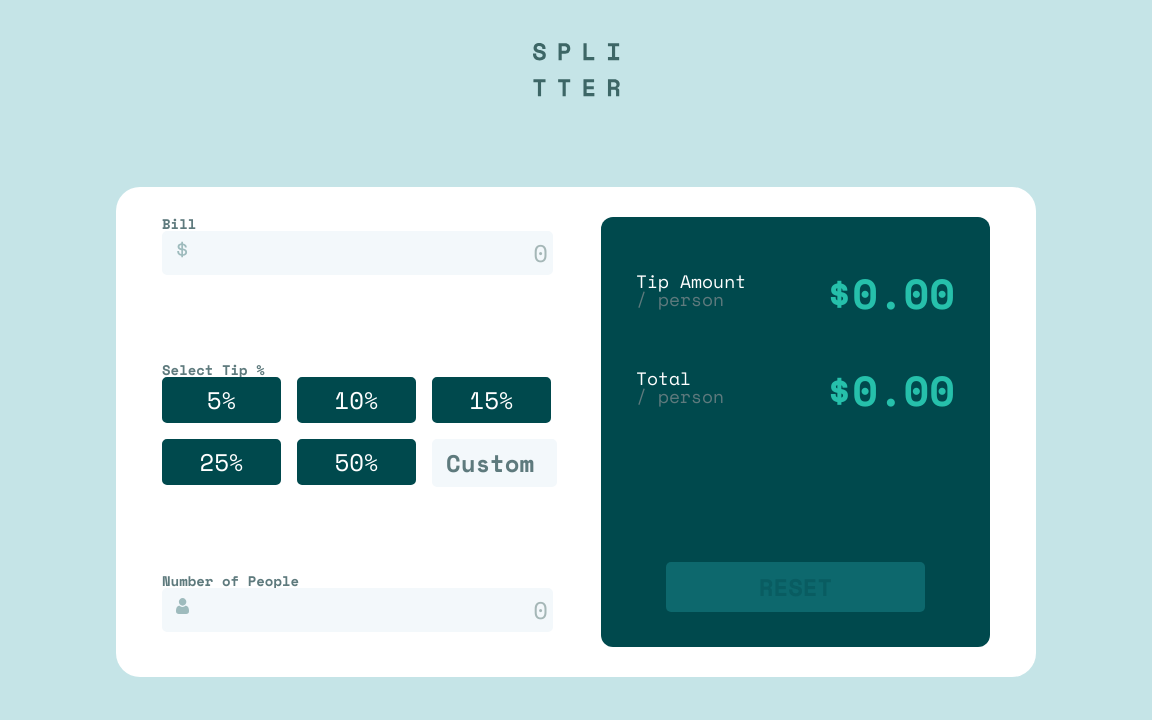
expect when add 2.5 on number of people, return 25
Type "2.5" into the number field with test id "inputPeople" at point(358, 610), box [162,588,553,632]
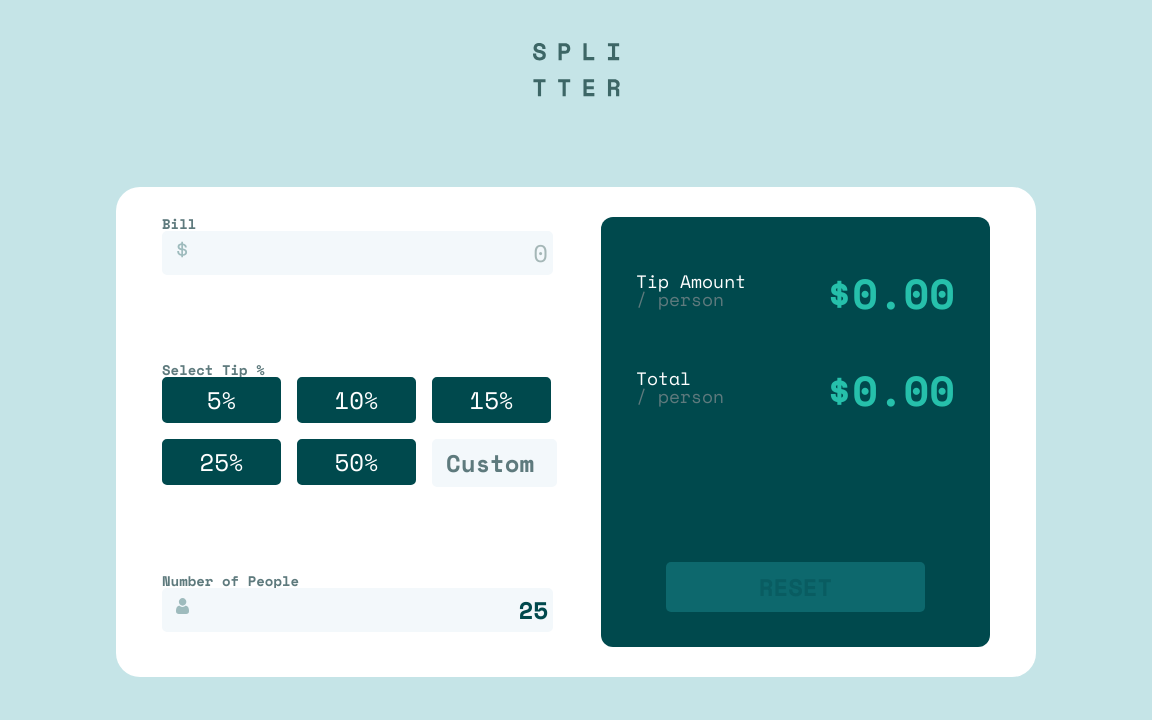
Check: the number field with test id "inputPeople" holds "25", box [162,588,553,632]
